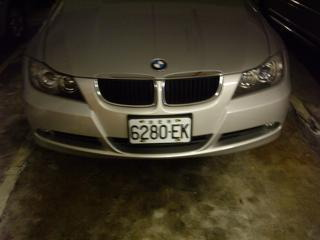plate: (126, 116, 193, 144)
